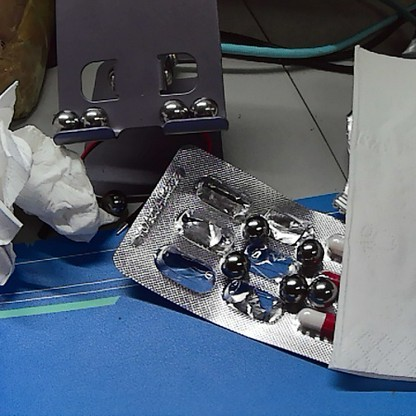ironball: (215, 247, 248, 282), (289, 233, 317, 269), (48, 105, 80, 136), (277, 271, 305, 306), (156, 97, 188, 127), (72, 104, 106, 131), (307, 278, 337, 308), (189, 95, 219, 122), (242, 212, 264, 242), (102, 190, 127, 213)
